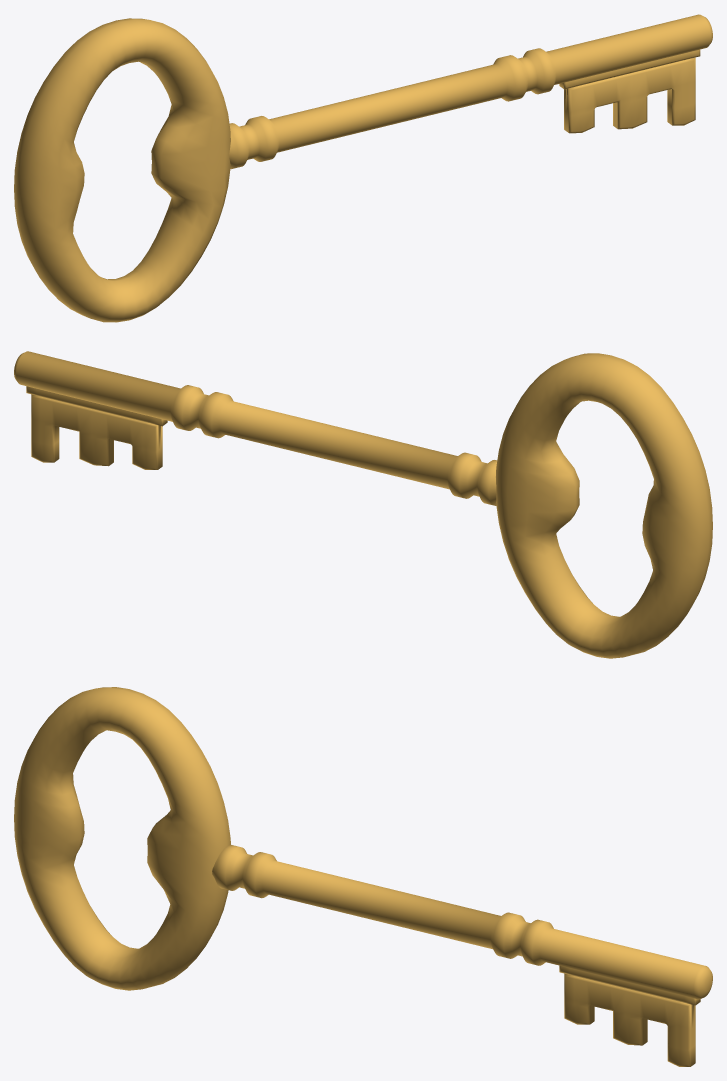
The model's file is KeyFBX.fbx.
3 renders of one model, top to bottom at view 1: azimuth 30°, elevation 25°; view 2: azimuth 150°, elevation 25°; view 3: azimuth 330°, elevation 25°, orthographic.
Visible parts, largest first — view 1: Torus.001; view 2: Torus.001; view 3: Torus.001.
Boxes of the visible parts, x1,y1,x2,y2 form: Torus.001: [14, 14, 712, 322]; Torus.001: [14, 351, 712, 658]; Torus.001: [14, 687, 712, 1066].
Size of the model in its own units: 147 by 60.14 by 10.27.
